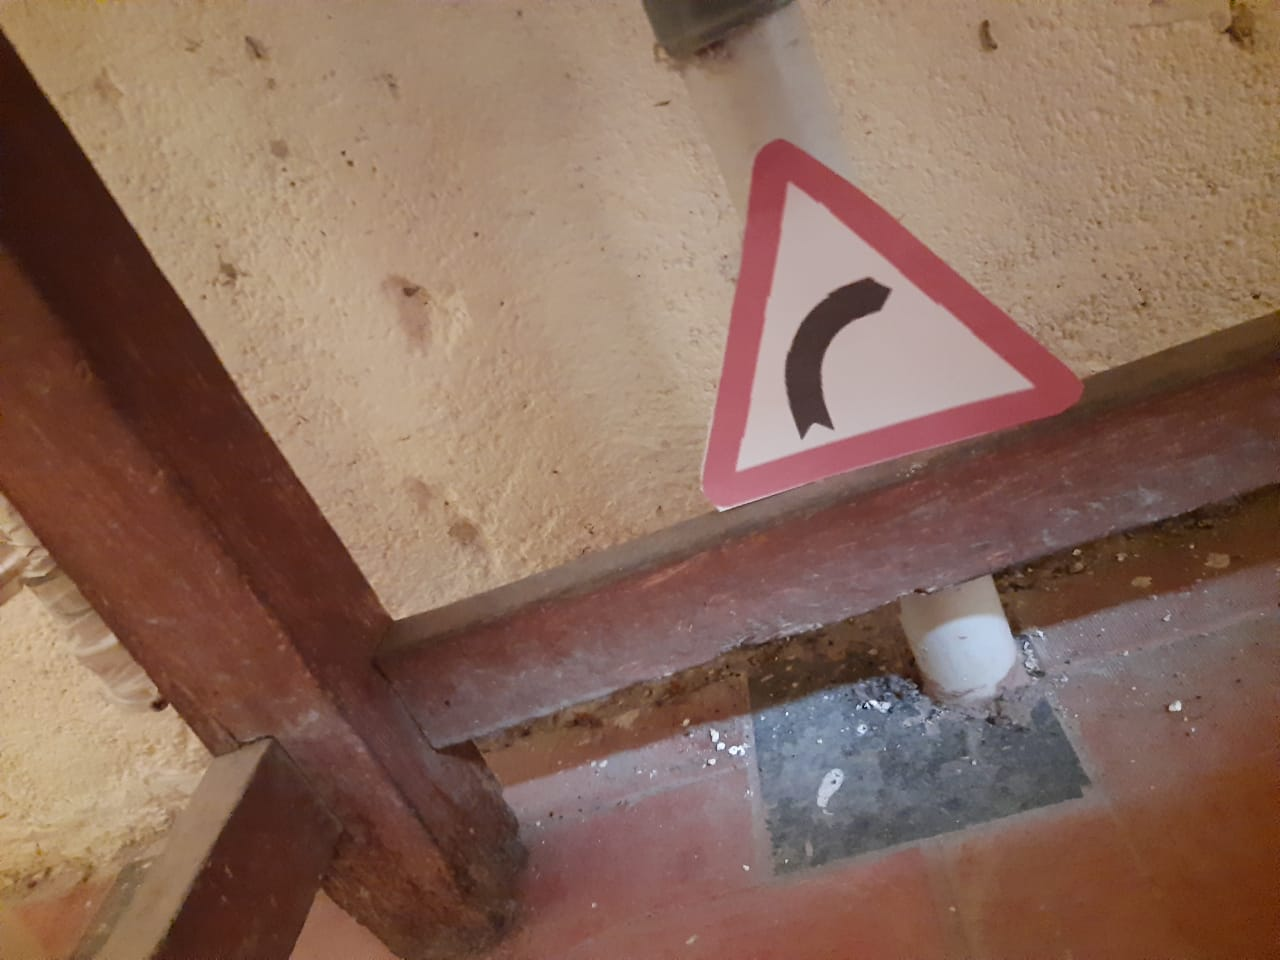RIGHT CURVE: (702, 120, 1105, 509)
